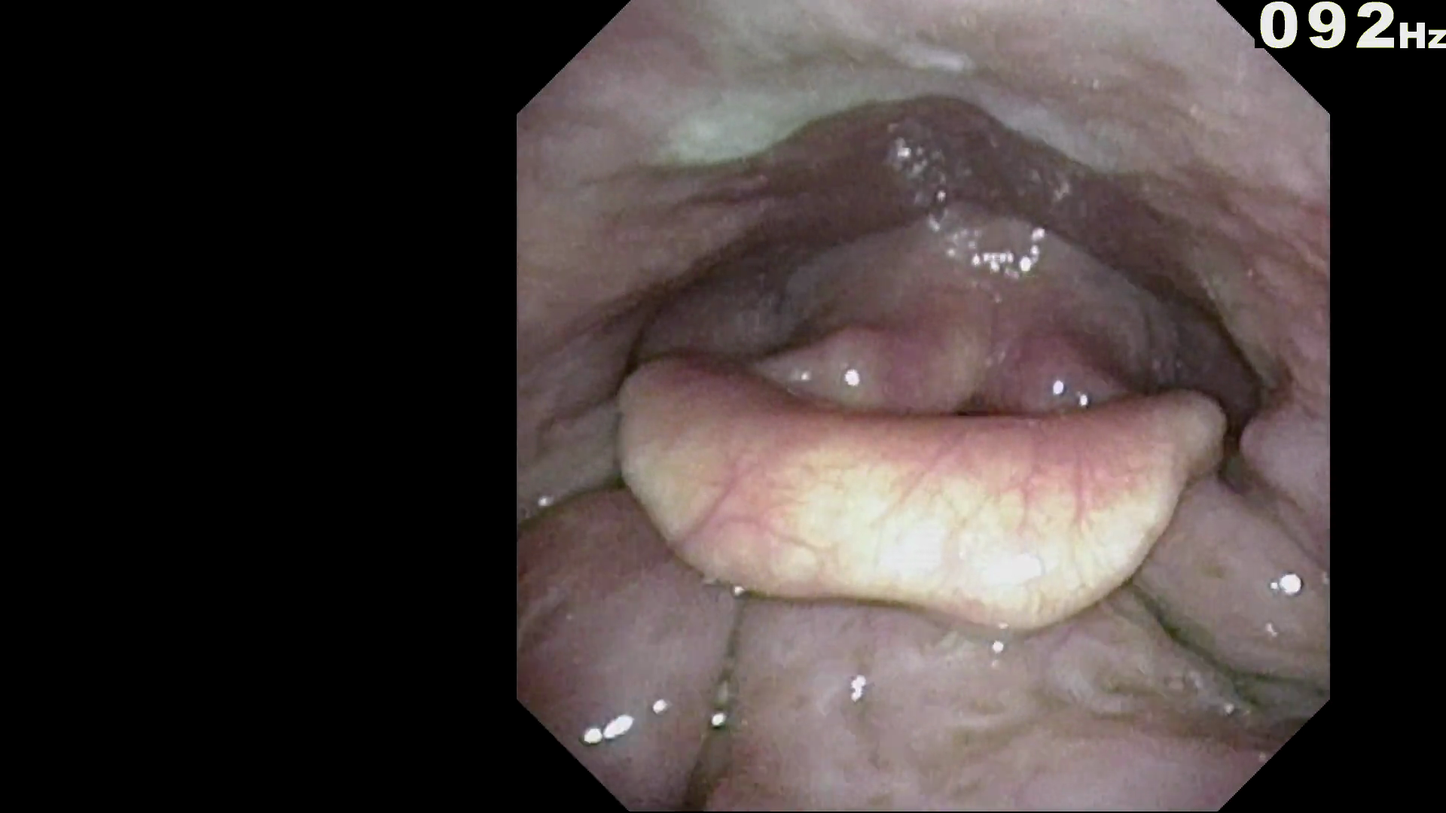epiglottis: (602, 374, 1214, 585)
trachea: (924, 368, 1021, 440)
